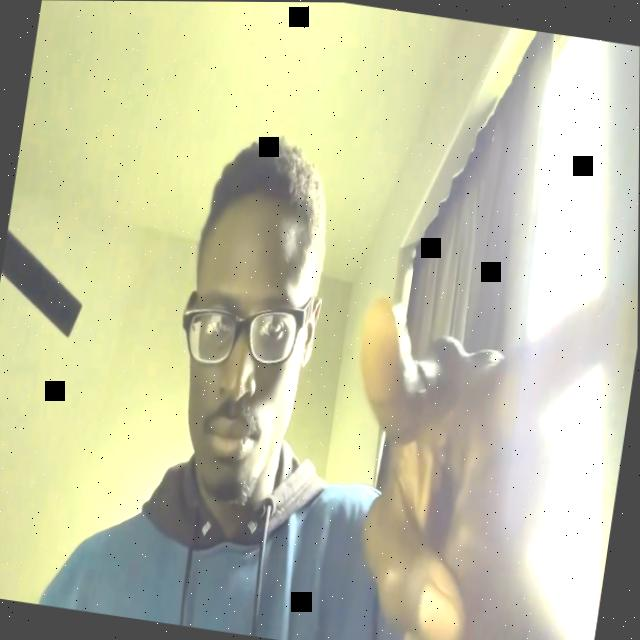Scissors: (317, 250, 639, 640)
